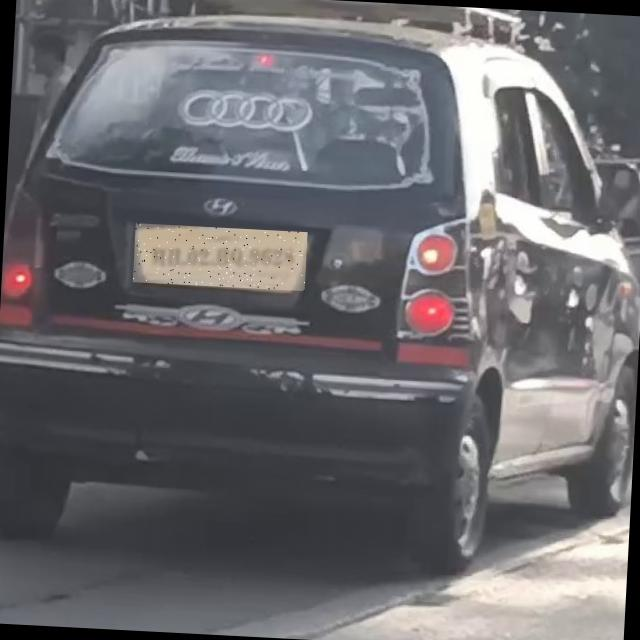Plate: (134, 224, 309, 292)
